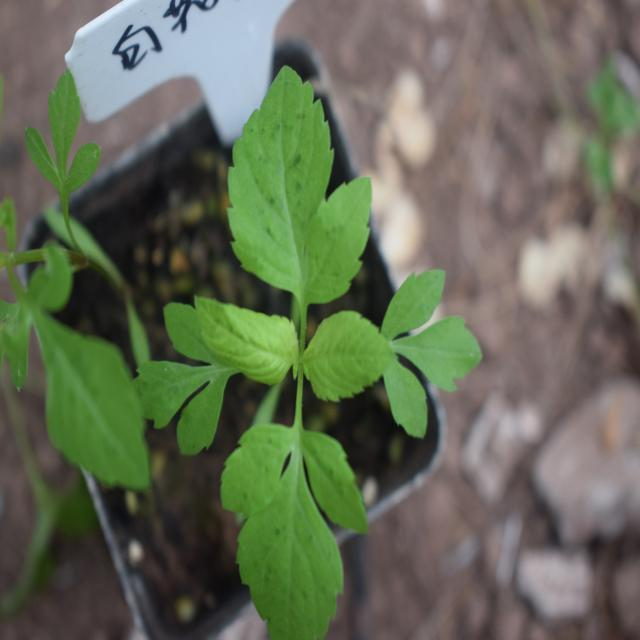Bidens pilosa: (145, 77, 470, 612)
